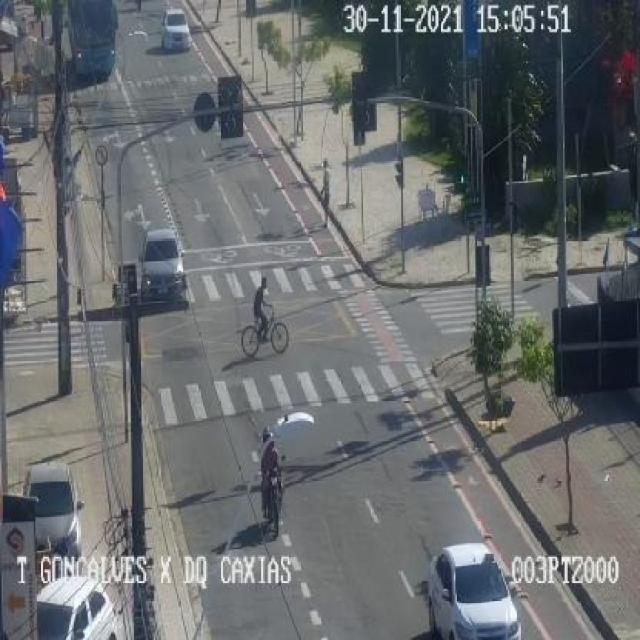Bus: (63, 1, 120, 83)
Car: (425, 542, 521, 640), (24, 461, 84, 560), (35, 573, 115, 640), (139, 228, 187, 301), (160, 7, 193, 52)
Cycle: (240, 302, 291, 358), (256, 464, 288, 538)
